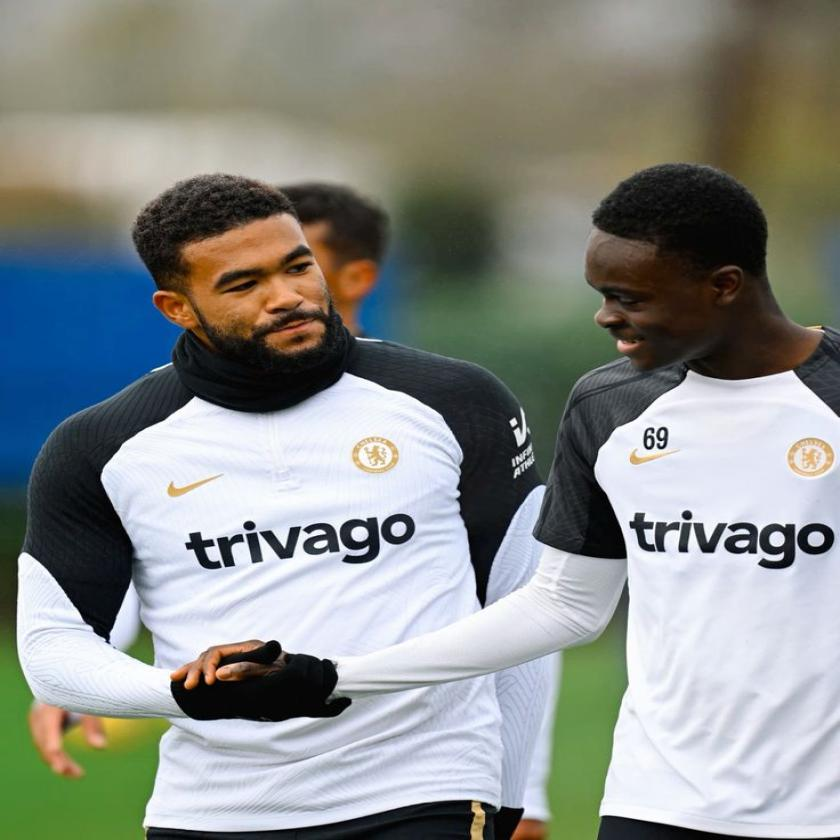Sin_casco: (124, 167, 354, 402), (569, 159, 776, 393)
